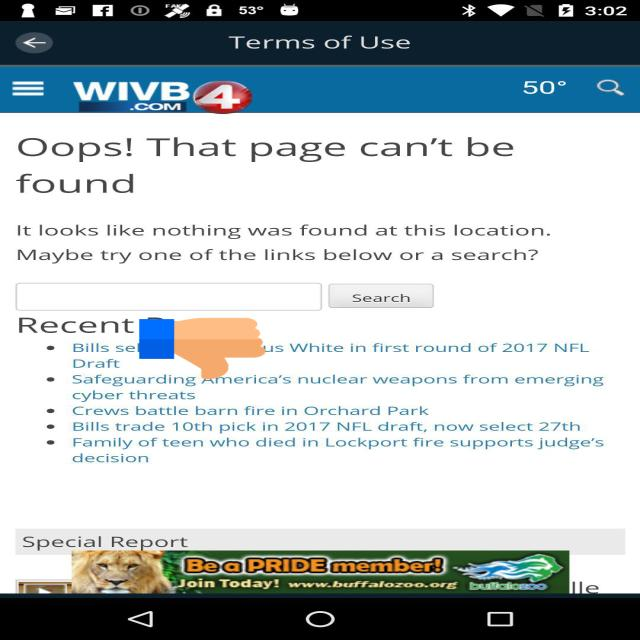obstruction: (140, 316, 266, 381)
